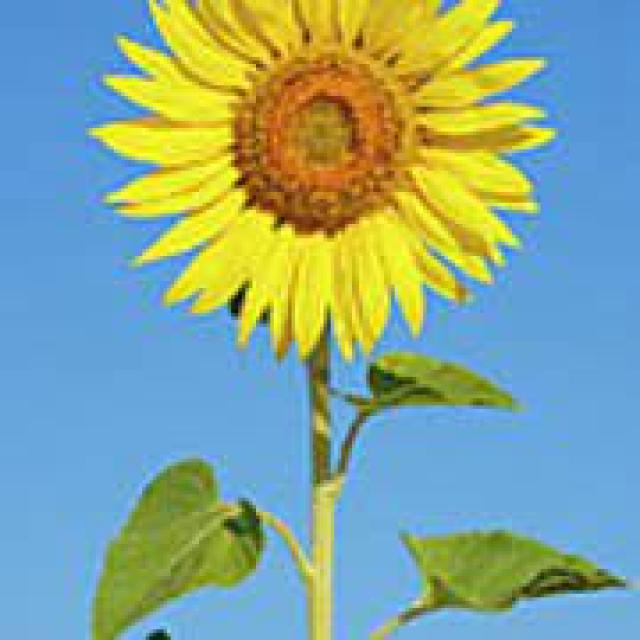sunflower: (66, 0, 565, 371)
